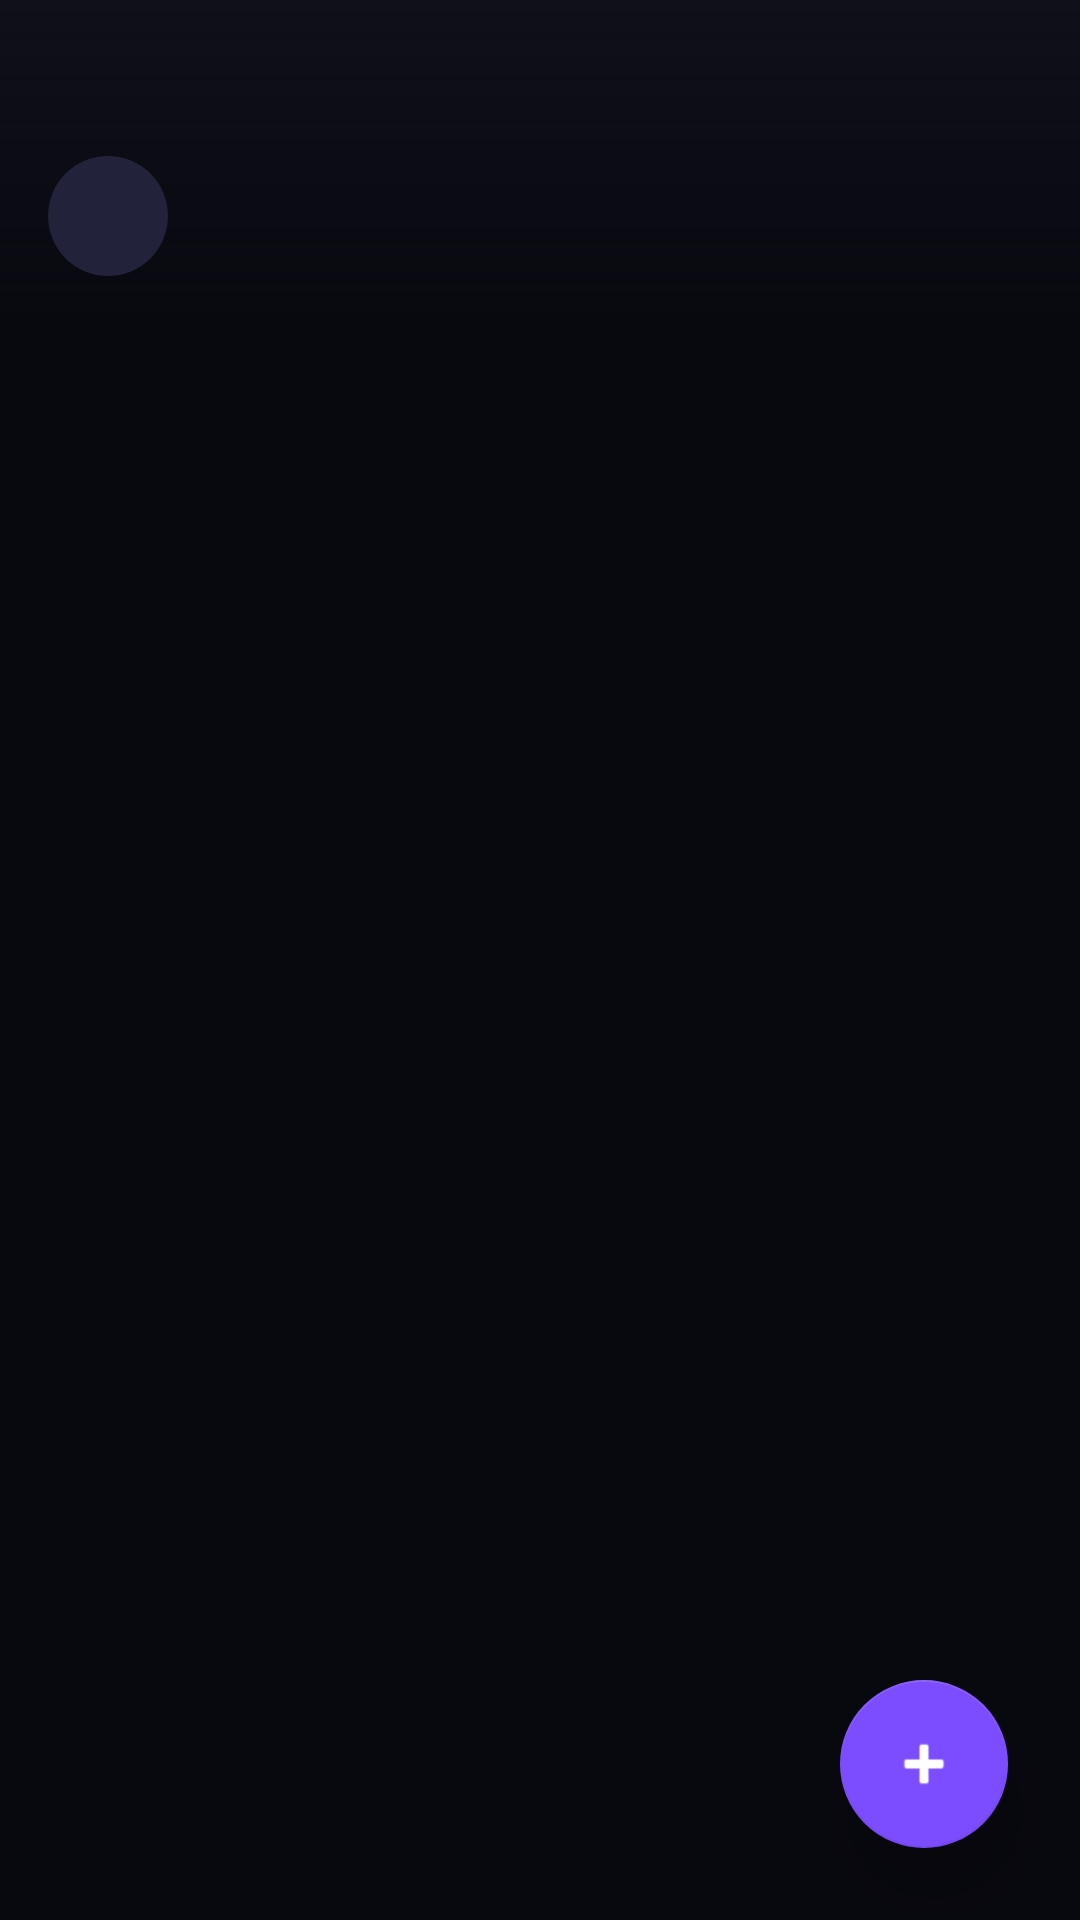

Where icons sit on this 1080px×1920px app screen, as bbox=(x1, y1, x2, y2):
add: bbox=(840, 1680, 1008, 1848)
